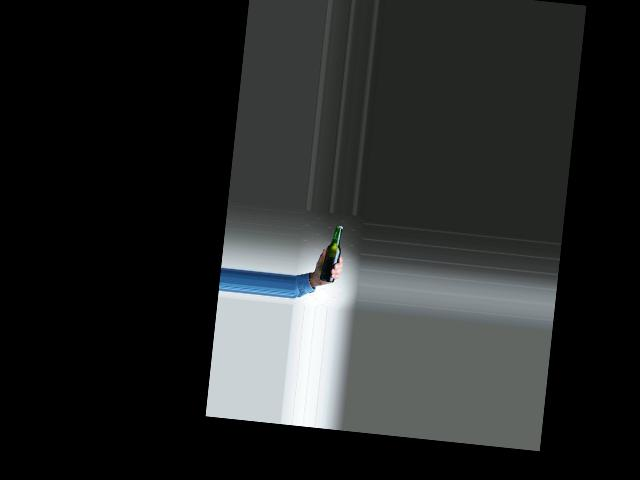beer: (319, 223, 343, 283)
